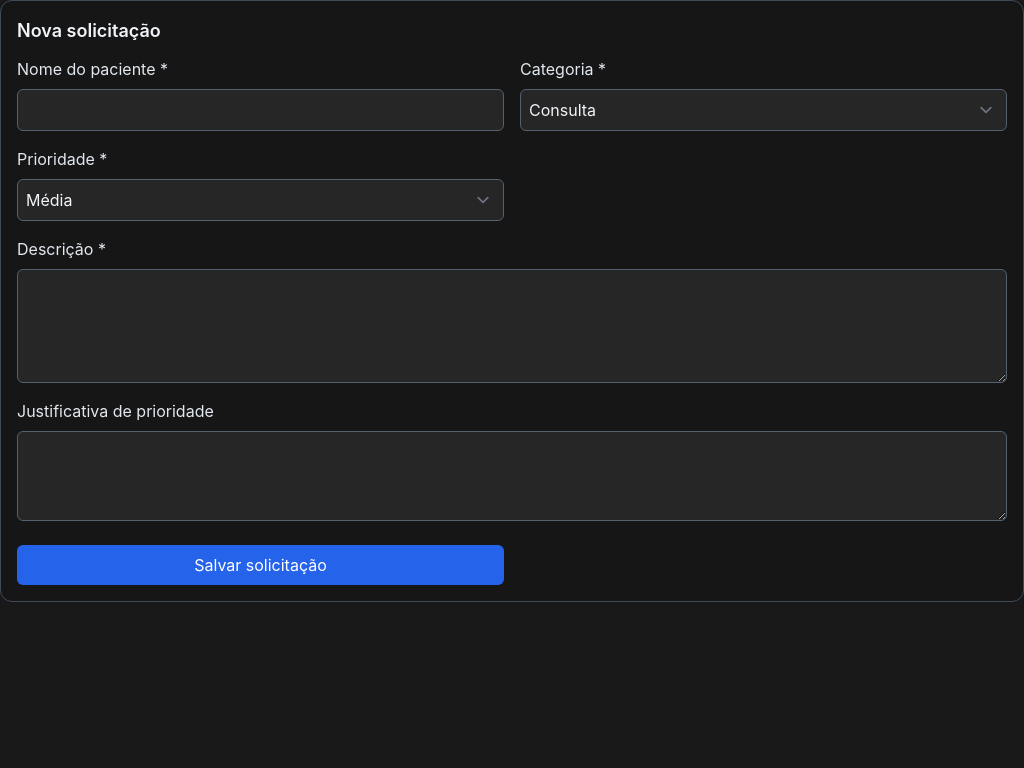
AppointmentRequest › não envia o formulário quando os campos de texto obrigatórios estão vazios
Click the button "Salvar solicitação" at {"x": 260, "y": 565}, box [17,545,504,585]
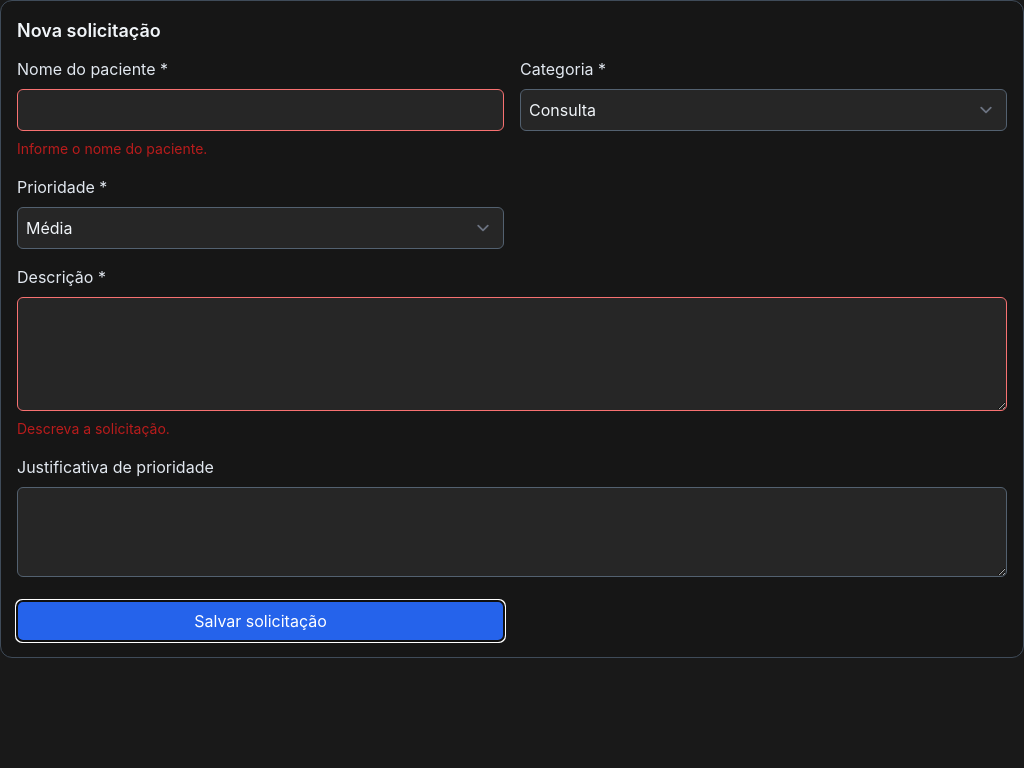
Expected: the text "Informe o nome do paciente." is shown, [17,140,207,157]
Expected: the text "Descreva a solicitação." is shown, [17,420,170,437]
